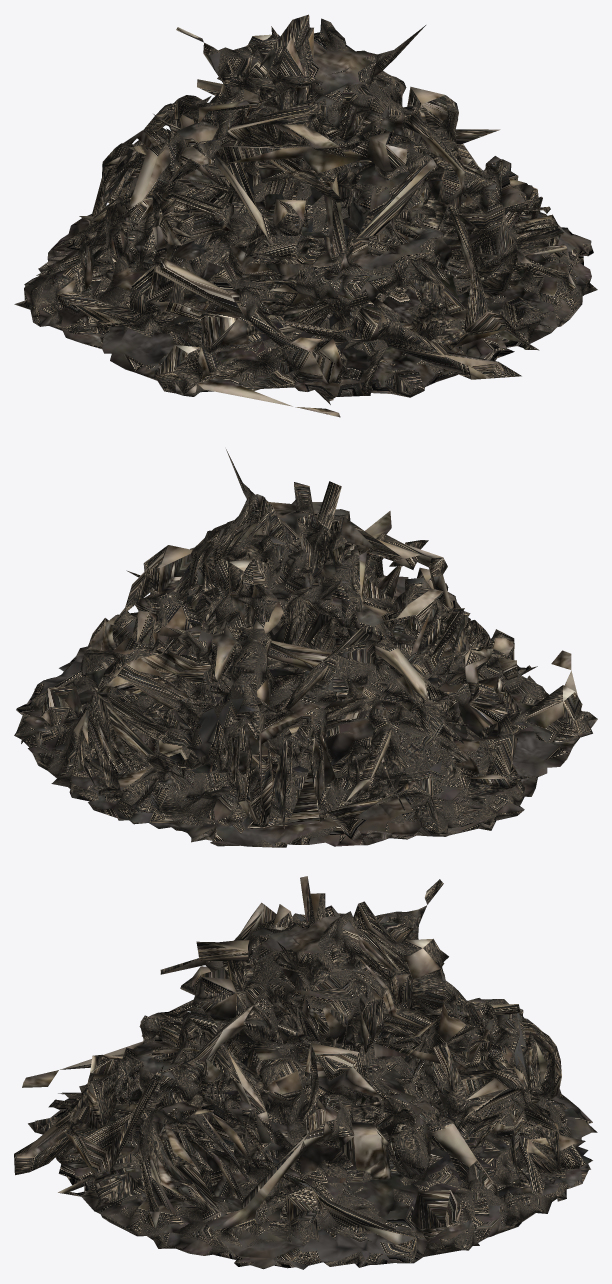
The model's file is bone-heap.glb.
3 renders of one model, top to bottom at view 1: azimuth 30°, elevation 25°; view 2: azimuth 150°, elevation 25°; view 3: azimuth 270°, elevation 25°, orthographic.
Parts seen in each view (by area): view 1: Mesh_0; view 2: Mesh_0; view 3: Mesh_0.
Part boxes in pixels (<box>): Mesh_0: <box>14,14,597,417</box>; Mesh_0: <box>14,449,597,847</box>; Mesh_0: <box>14,876,597,1269</box>.
Size of the model in its own units: 1.87 by 0.9203 by 1.88.
1 material, 1 textured.
